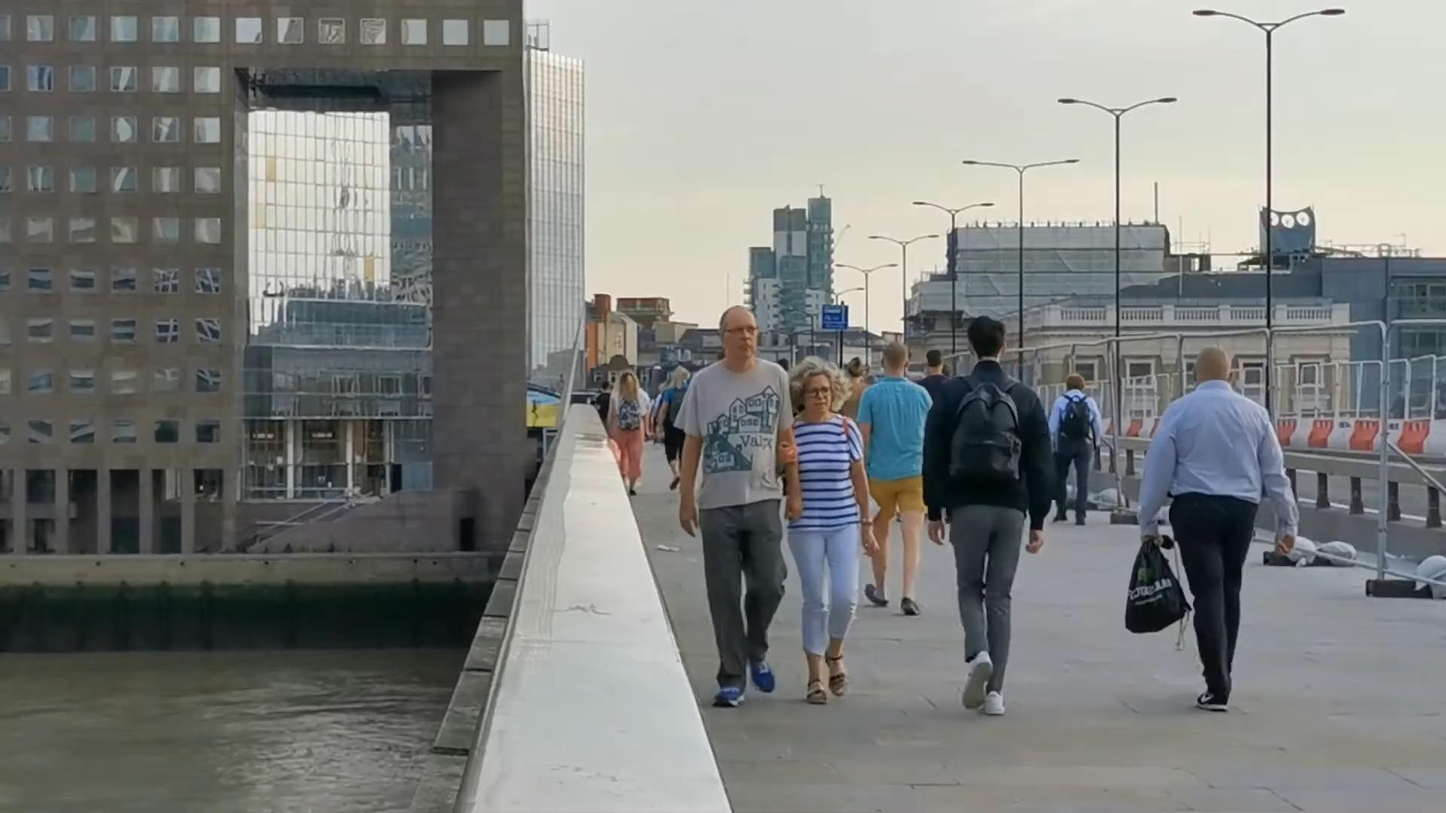no-helmet: (790, 356, 851, 415), (718, 305, 760, 362), (968, 315, 1007, 362), (1193, 347, 1234, 388), (880, 341, 910, 375), (615, 369, 640, 398), (670, 365, 691, 389), (848, 356, 868, 378), (926, 350, 944, 373)
